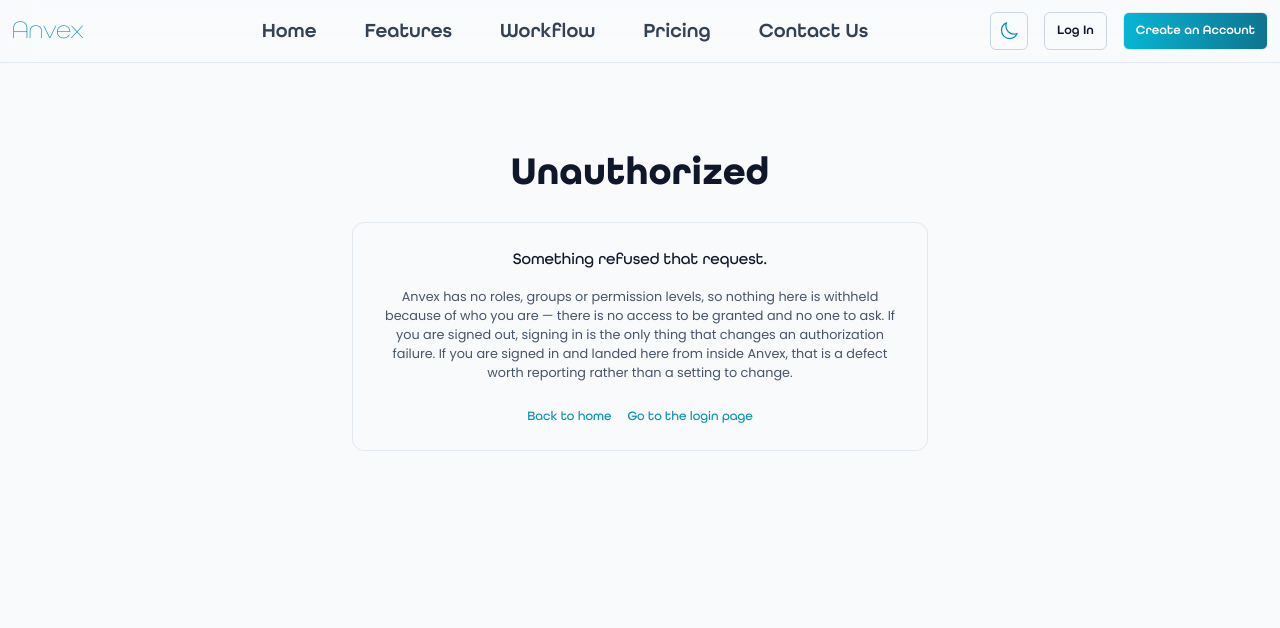
its links › moves the router to Go to the login page when clicked
This screenshot has width=1280, height=628.
Expected: the element with test id "route-unauthorized" is shown, [352,148,928,451]
Click the link "Go to the login page".
click(690, 416)  # box [627,406,753,426]
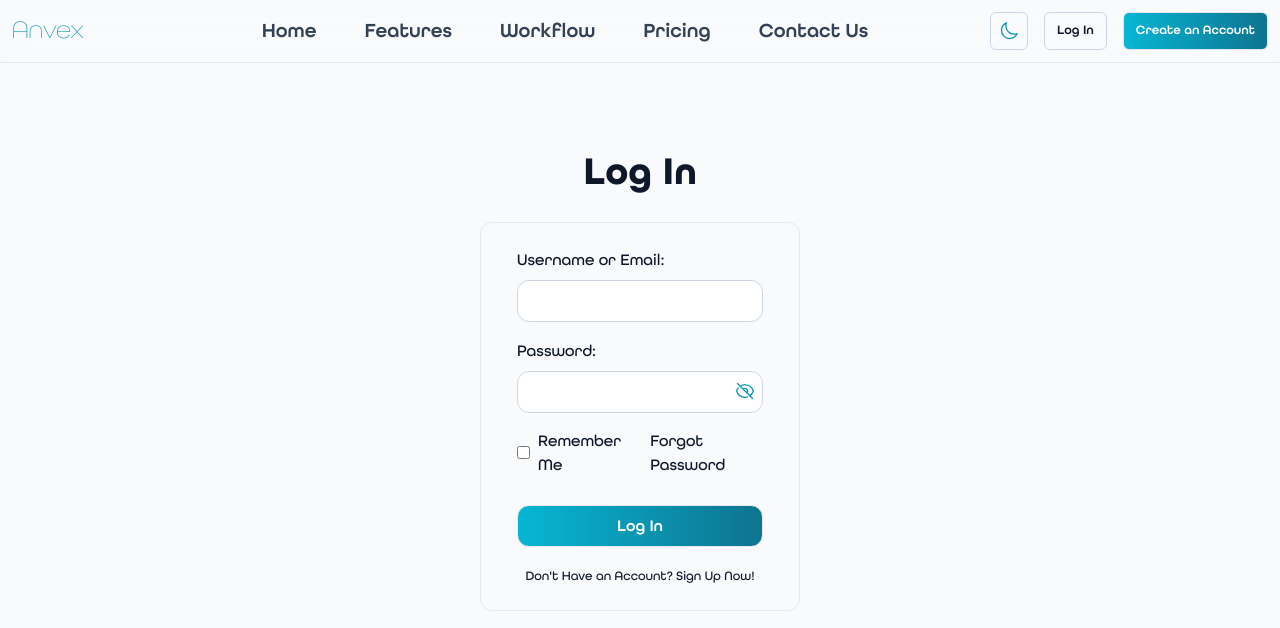
Expected: the element with test id "route-login" is shown, [480,148,800,611]
